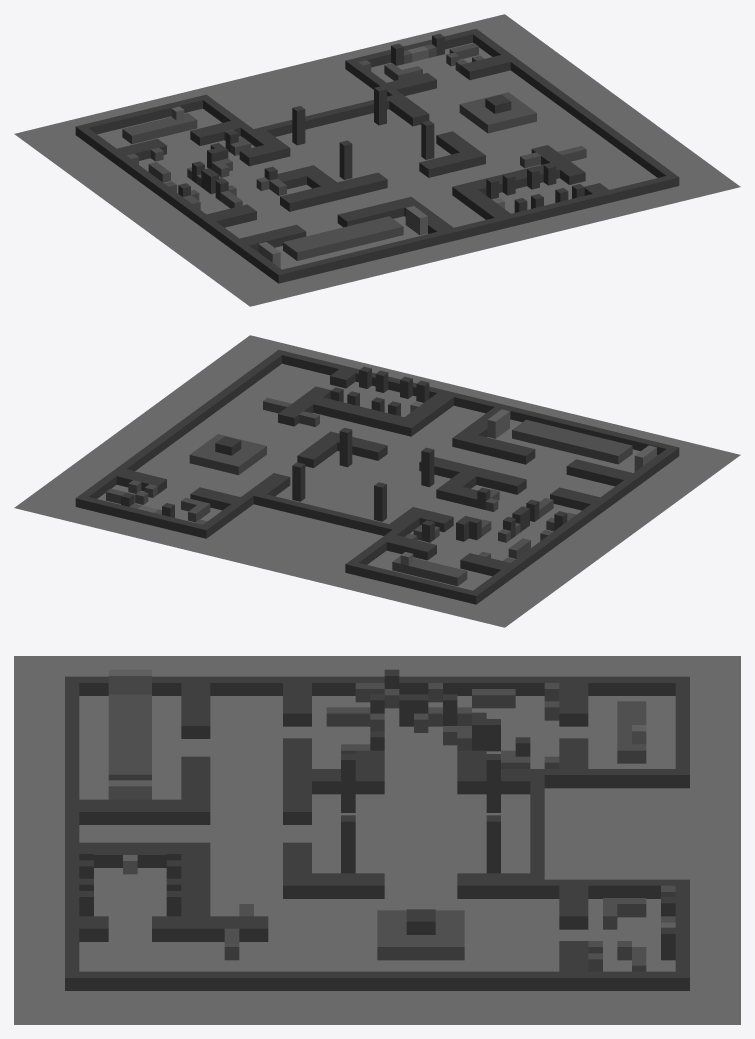
The model's file is Blockout Piso 1.fbx.
The picture shows the model from 3 angles, top to bottom: view 1: azimuth 30°, elevation 25°; view 2: azimuth 150°, elevation 25°; view 3: azimuth 270°, elevation 25°; orthographic projection. The views are drawn at different scales.
Visible parts, largest first — view 1: Plane, Cube.026, Cube.023, Cube.058, Cube.028, Cube.032, Cube.061, Cube.084, Cube.048, Cube.057, Cube.035, Cube.003 (+22 smaller); view 2: Plane, Cube.026, Cube.023, Cube.058, Cube.028, Cube.061, Cube.048, Cube.059, Cube.084, Cube.032, Cube.016, Cube.003 (+23 smaller); view 3: Plane, Cube.058, Cube.023, Cube.026, Cube.028, Cube.061, Cube.001, Cube.009, Cube.002, Cube.032, Cube.046, Cube.003 (+26 smaller).
Part boxes in pixels (box(x1,y1,x2,y2)): Plane: box(14, 14, 740, 306); Cube.026: box(274, 174, 679, 283); Cube.023: box(75, 124, 281, 279); Cube.058: box(468, 28, 674, 177); Cube.028: box(283, 216, 403, 260); Cube.032: box(280, 172, 387, 211); Cube.061: box(459, 92, 536, 133); Cube.084: box(84, 96, 202, 134); Cube.048: box(262, 99, 389, 136); Cube.057: box(122, 113, 197, 144); Cube.035: box(419, 148, 485, 177); Cube.003: box(452, 182, 510, 219); Plane: box(14, 335, 740, 627); Cube.026: box(274, 349, 679, 458); Cube.023: box(468, 449, 674, 604); Cube.058: box(75, 353, 281, 508); Cube.028: box(512, 419, 632, 464); Cube.061: box(189, 434, 266, 475); Cube.048: box(261, 494, 388, 535); Cube.059: box(83, 497, 202, 536); Cube.084: box(353, 563, 472, 602); Cube.032: box(419, 457, 526, 494); Cube.016: box(313, 397, 403, 432); Cube.003: box(395, 393, 453, 436); Plane: box(14, 656, 740, 1024); Cube.058: box(79, 971, 689, 990); Cube.023: box(79, 676, 689, 695); Cube.026: box(65, 676, 79, 990); Cube.028: box(108, 694, 151, 780); Cube.061: box(377, 910, 464, 960); Cube.001: box(79, 799, 210, 824); Cube.009: box(544, 769, 689, 788); Cube.002: box(152, 916, 268, 941); Cube.032: box(283, 738, 311, 824); Cube.046: box(457, 873, 544, 898); Cube.003: box(79, 842, 210, 867).
Size of the model in its own units: 6000 by 400 by 5000.
